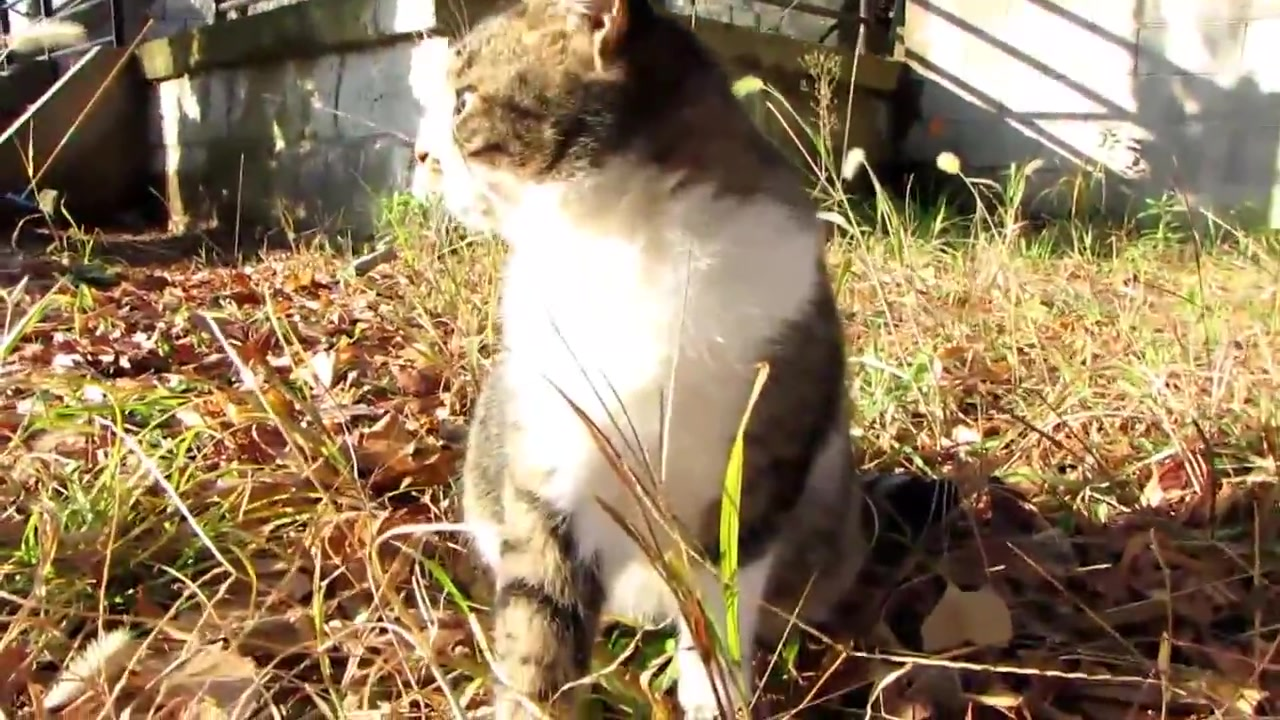cat: (399, 3, 874, 720)
